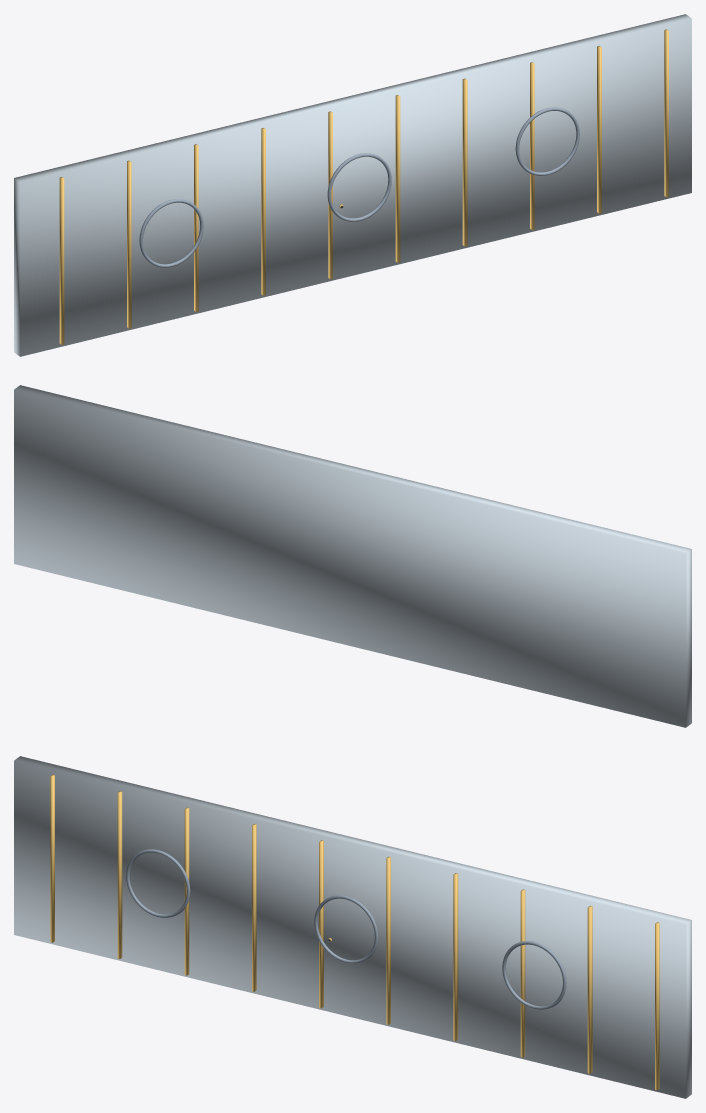
Rendered from 08_L88_PressurizedHabitatServiceBulkhead.fbx.
The picture shows the model from 3 angles, top to bottom: view 1: azimuth 30°, elevation 25°; view 2: azimuth 150°, elevation 25°; view 3: azimuth 330°, elevation 25°; orthographic projection.
Visible parts, largest first — view 1: L87_PressurizedHabitatService_Part_0000, L87_PressurizedHabitatService_Part_0001, L87_PressurizedHabitatService_Part_0002; view 2: L87_PressurizedHabitatService_Part_0000; view 3: L87_PressurizedHabitatService_Part_0000, L87_PressurizedHabitatService_Part_0001, L87_PressurizedHabitatService_Part_0002.
Boxes of the visible parts, x1,y1,x2,y2 form: L87_PressurizedHabitatService_Part_0000: (14,14,691,356); L87_PressurizedHabitatService_Part_0001: (59,29,668,344); L87_PressurizedHabitatService_Part_0002: (139,107,579,267); L87_PressurizedHabitatService_Part_0000: (14,385,691,727); L87_PressurizedHabitatService_Part_0000: (14,756,691,1098); L87_PressurizedHabitatService_Part_0001: (50,774,659,1090); L87_PressurizedHabitatService_Part_0002: (126,849,566,1009).
Size of the model in its own units: 25 by 6.2 by 0.69.
